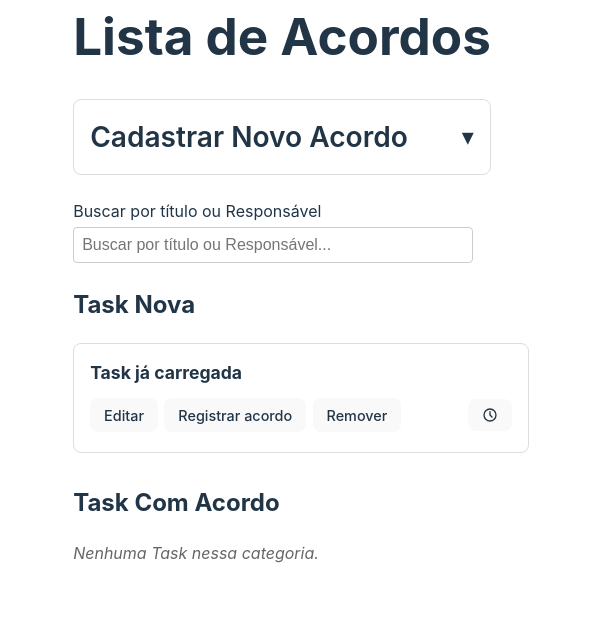
ListaDeAcordosPage › mantém a lista anterior visível junto com o erro quando um carregamento após sucesso falha (Requisito 1.8)
Check: the heading "Task já carregada" is shown, box 90,362 -> 242,383
Type "termo-qualquer" into the search field labelled "Buscar por título ou Responsável" at (273, 245), box 73,227 -> 473,263
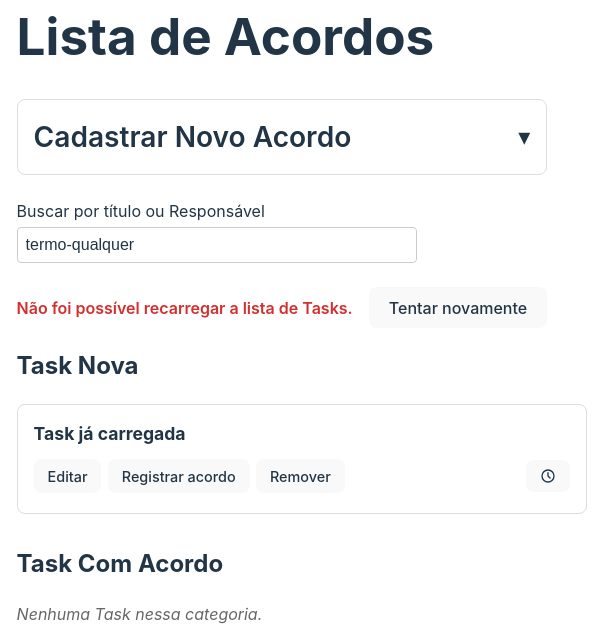
Check: the heading "Task já carregada" is shown, box 34,423 -> 186,444
Check: the message reads "Não foi possível recarregar a lista de Tasks.", box 17,298 -> 353,318
Check: the button with test id "lista-de-acordos-page-tentar-novamente" is shown, box 369,287 -> 547,328
